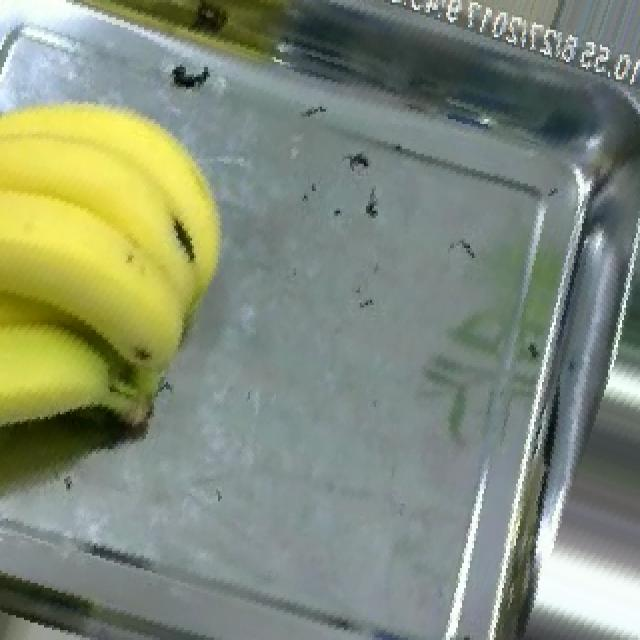banana: (6, 69, 236, 486)
